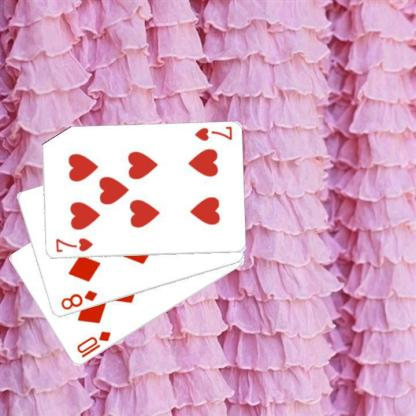10D: (74, 329, 112, 359)
7H: (53, 235, 94, 254), (192, 124, 233, 143)
8D: (58, 288, 99, 311)
